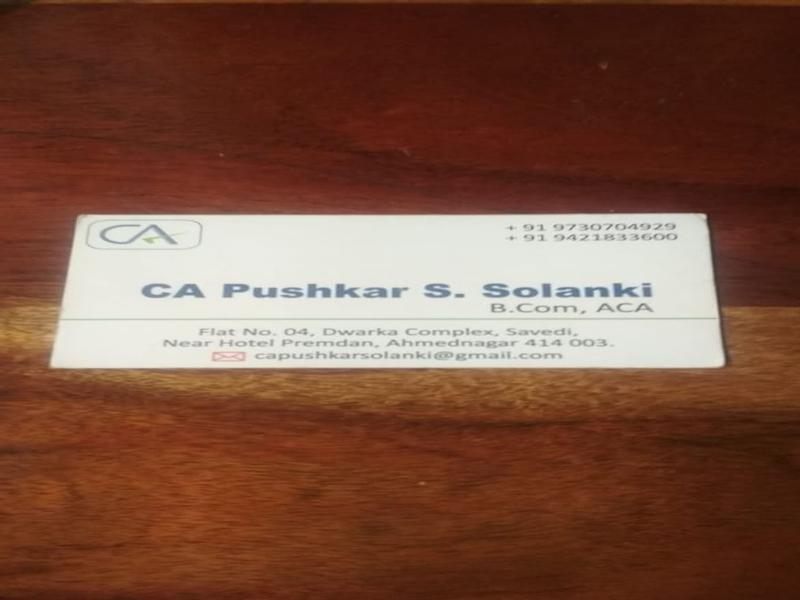card: (48, 211, 728, 370)
